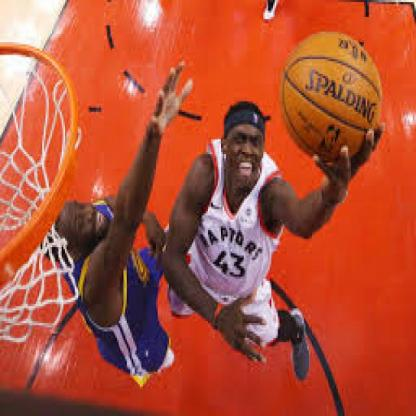basketball: (278, 31, 382, 163)
rim: (0, 40, 81, 296)
